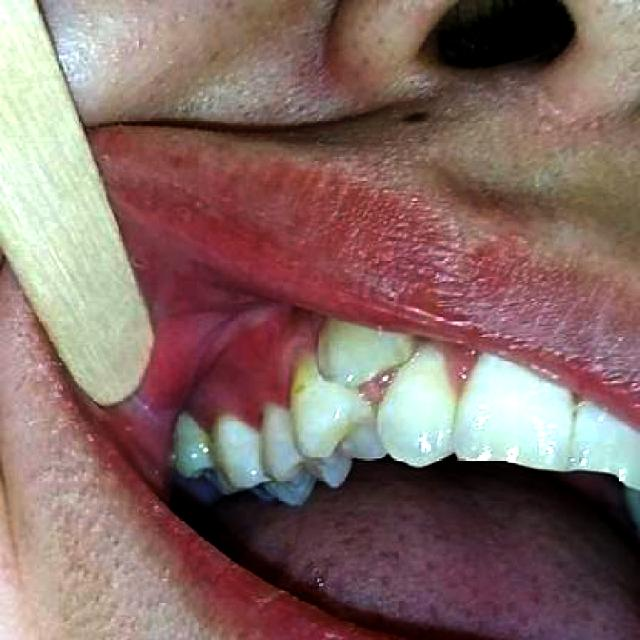Plaque: (173, 411, 211, 445), (209, 416, 257, 433), (259, 404, 283, 429), (288, 350, 316, 371)
